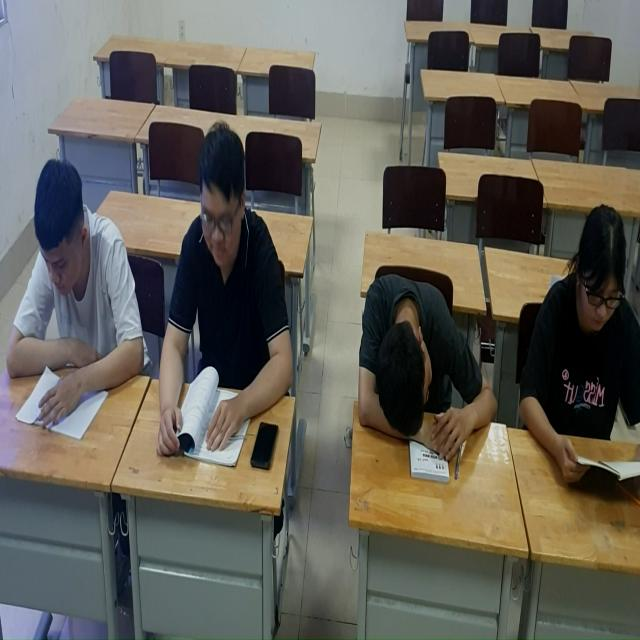read: (153, 115, 298, 459), (8, 116, 146, 427), (528, 160, 640, 518)
sleep: (359, 232, 503, 473)
